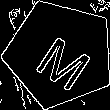M_NE: (26, 20, 94, 88)
